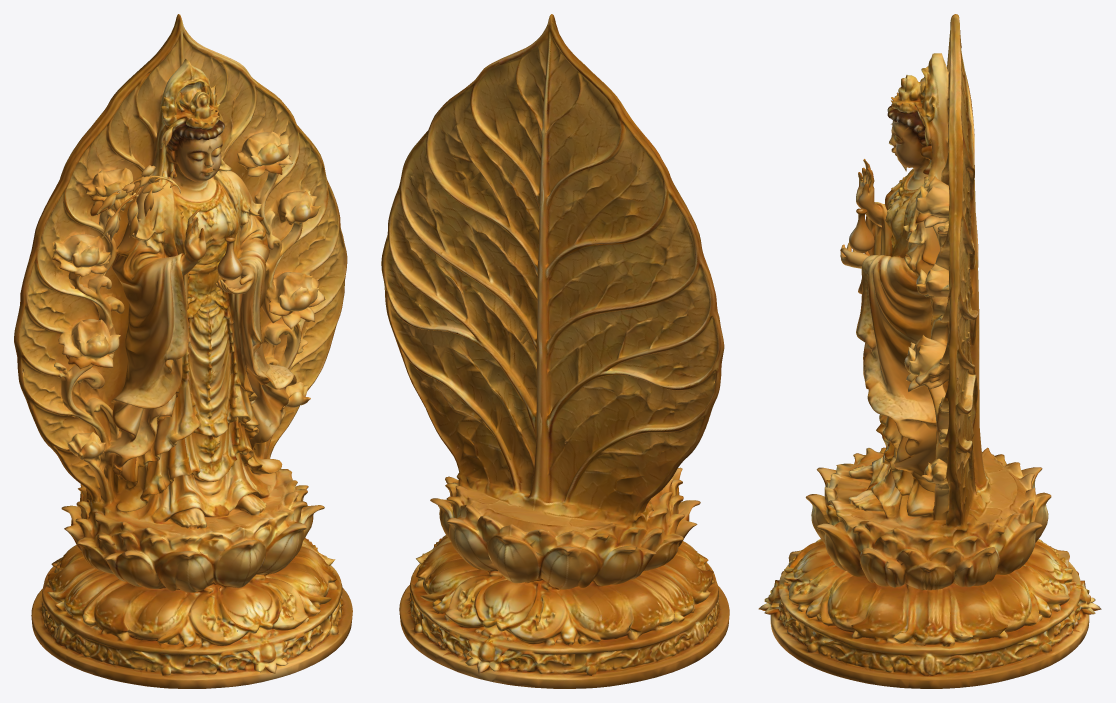
3 views of the same model, side by side, from view 1: azimuth 30°, elevation 25°; view 2: azimuth 150°, elevation 25°; view 3: azimuth 270°, elevation 25° (orthographic). The views are drawn at different scales.
Visible parts, largest first — view 1: four-heavenly-kings-02; view 2: four-heavenly-kings-02; view 3: four-heavenly-kings-02.
Boxes of the visible parts, x1=… form: four-heavenly-kings-02: x1=14, y1=14, x2=352, y2=688; four-heavenly-kings-02: x1=381, y1=14, x2=729, y2=688; four-heavenly-kings-02: x1=758, y1=14, x2=1101, y2=688.
Bounding box in the file's own units: 0.5805 × 1 × 0.5123.
Materials: 1 (1 with a texture image).
